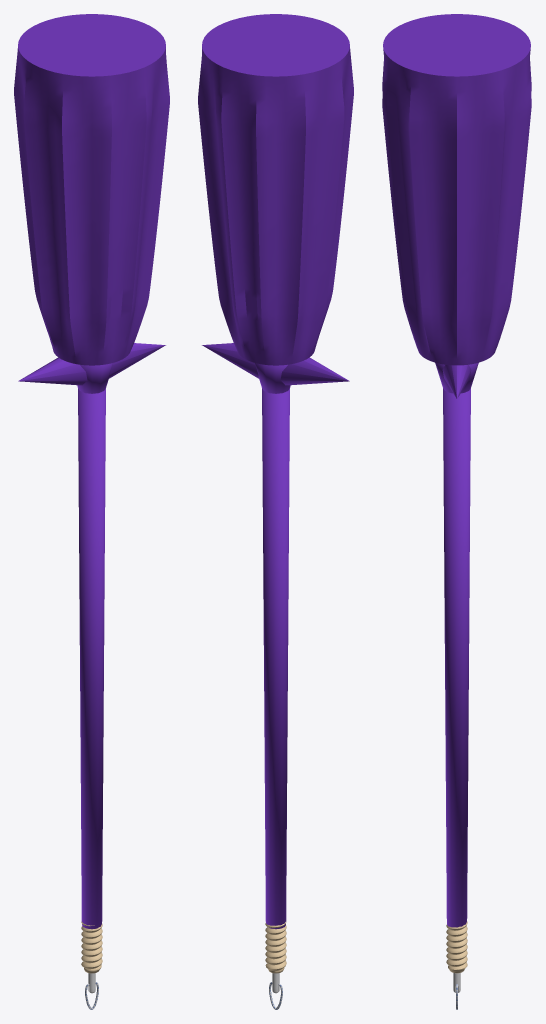
File: implanter-xtraloc.lod1.glb
3 renders of one model, left to right at view 1: azimuth 30°, elevation 25°; view 2: azimuth 150°, elevation 25°; view 3: azimuth 270°, elevation 25°, orthographic.
Parts seen in each view (by area): view 1: handle, shaft, wings, anchor, neck; view 2: handle, shaft, wings, anchor, neck; view 3: handle, shaft, anchor, wings, neck.
Boxes of the visible parts, x1,y1,x2,y2 form: handle: [14, 14, 169, 365]; shaft: [78, 388, 105, 929]; wings: [18, 343, 165, 385]; anchor: [81, 921, 102, 1009]; neck: [77, 363, 112, 393]; handle: [198, 14, 353, 365]; shaft: [262, 388, 289, 929]; wings: [202, 343, 349, 385]; anchor: [265, 922, 286, 1009]; neck: [255, 363, 290, 393]; handle: [382, 14, 531, 365]; shaft: [443, 388, 470, 927]; anchor: [446, 921, 467, 1009]; wings: [442, 364, 471, 398]; neck: [435, 362, 478, 393].
Size of the model in its own units: 0.044 by 0.2731 by 0.0383.
Materials: 4 (1 with a texture image).
